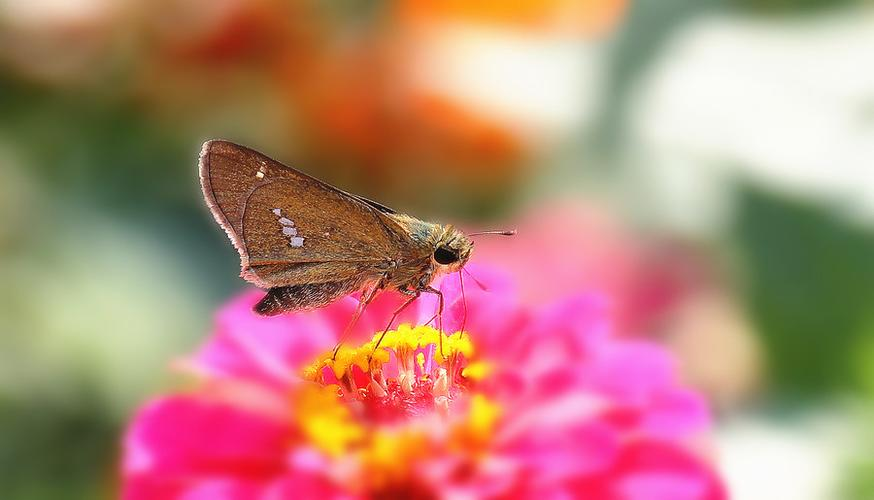Hesperiidae: (196, 133, 517, 364)
